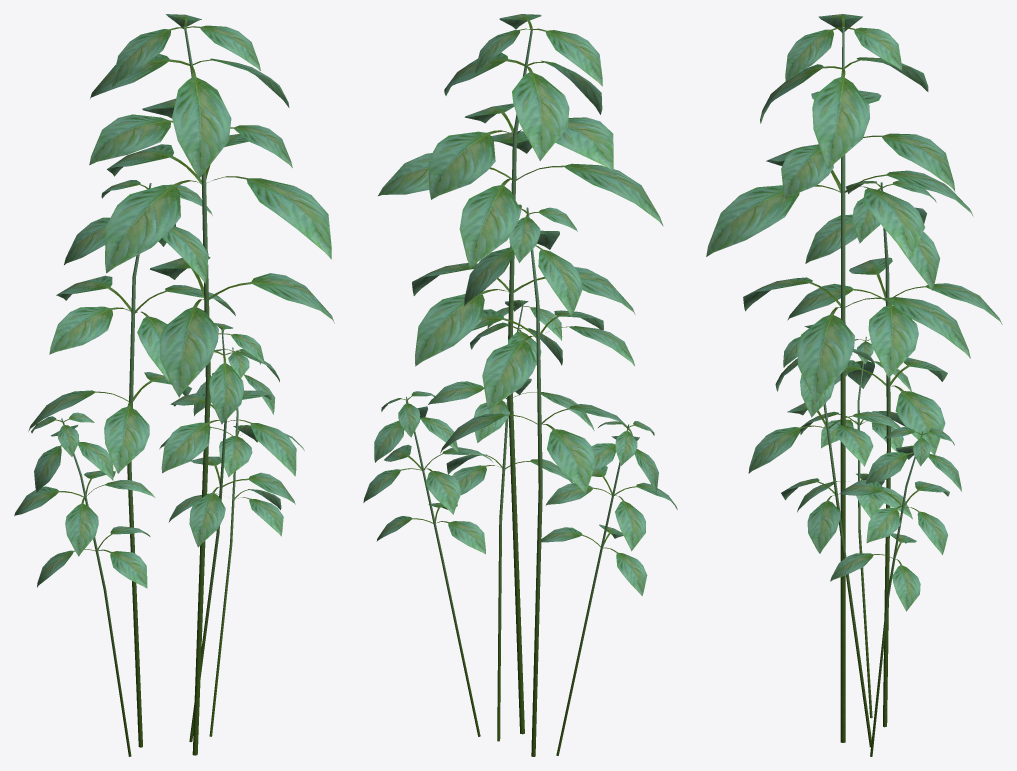
The model's file is Basil3.fbx.
3 renders of one model, left to right at view 1: azimuth 30°, elevation 25°; view 2: azimuth 150°, elevation 25°; view 3: azimuth 270°, elevation 25°, orthographic. The views are drawn at different scales.
Visible parts, largest first — view 1: Basil_3; view 2: Basil_3; view 3: Basil_3.
Part boxes in pixels (x1=…): Basil_3: x1=14, y1=14, x2=334, y2=756; Basil_3: x1=363, y1=14, x2=677, y2=756; Basil_3: x1=706, y1=14, x2=1002, y2=756.
Size of the model in its own units: 31.8 by 80.47 by 30.39.
